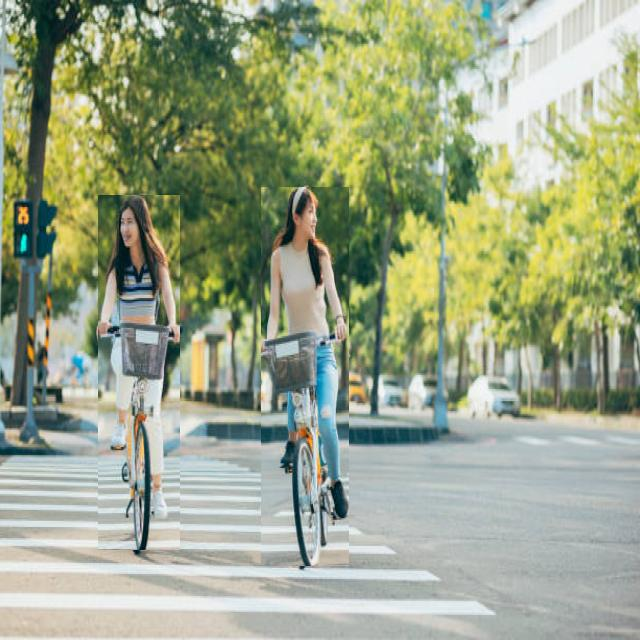bicycle: (261, 187, 349, 566), (98, 195, 180, 550)
